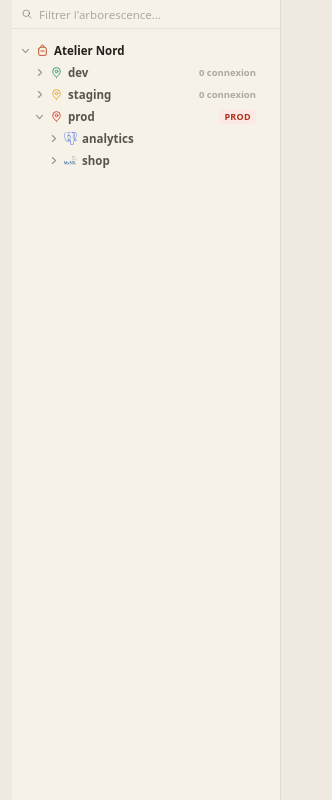
au clic droit sur un environnement, le même menu
Right-click the list item "prod PROD".
right_click(238, 116)  # box [12,105,280,127]
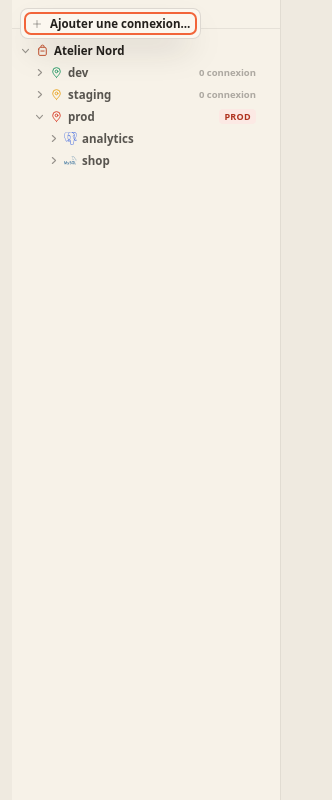
Result: the menu named "Actions de prod" reads "Ajouter une connexion…" at [24,12,197,35]
